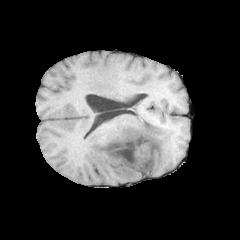glioma: (85, 108, 176, 180)
